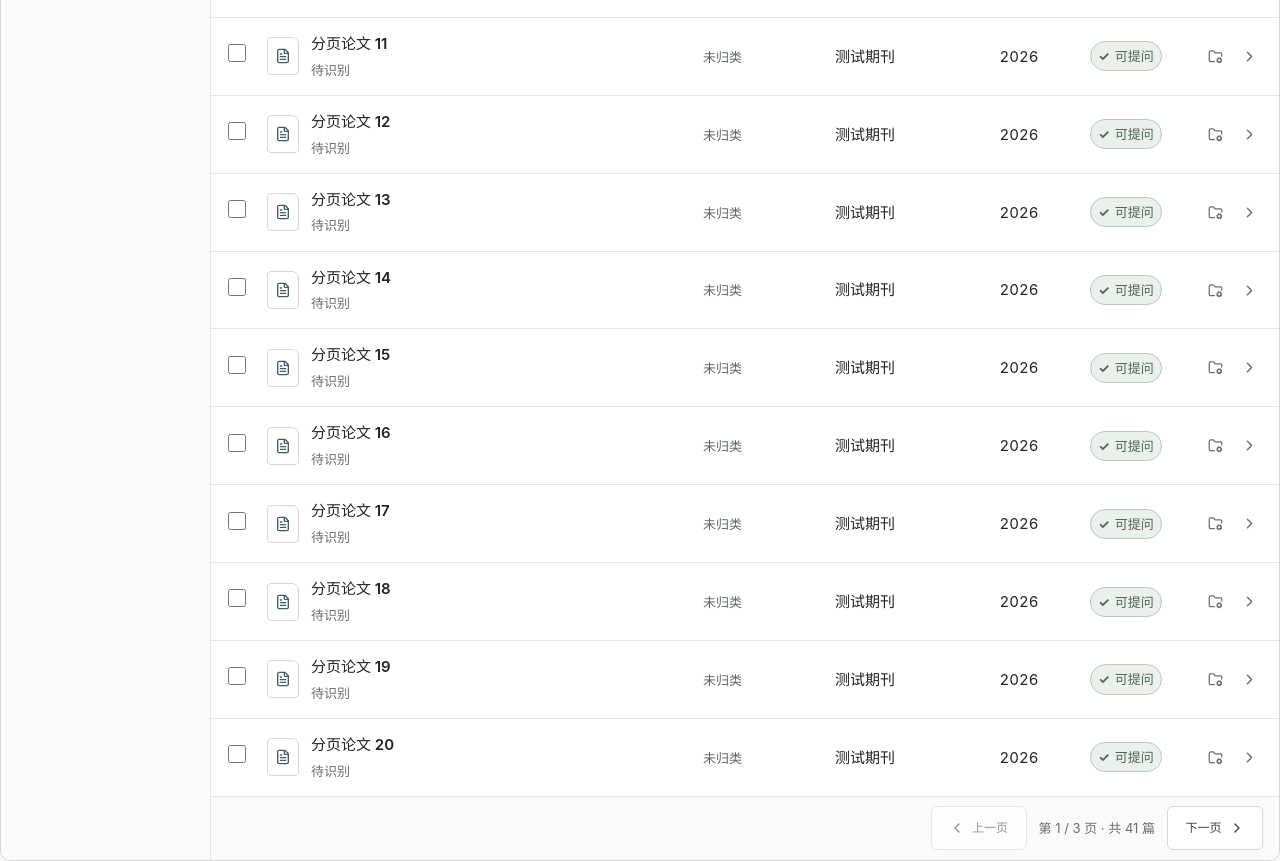
Test: LibraryTable 文献分页 › 每页展示 20 篇，并在筛选后回到第一页
(page scrolled)
Expected: the text "第 1 / 3 页 · 共 41 篇" is shown, x1=1038 y1=819 x2=1155 y2=838
Click the button "下一页" at (1215, 828), box x1=1167 y1=806 x2=1263 y2=850
(page scrolled)
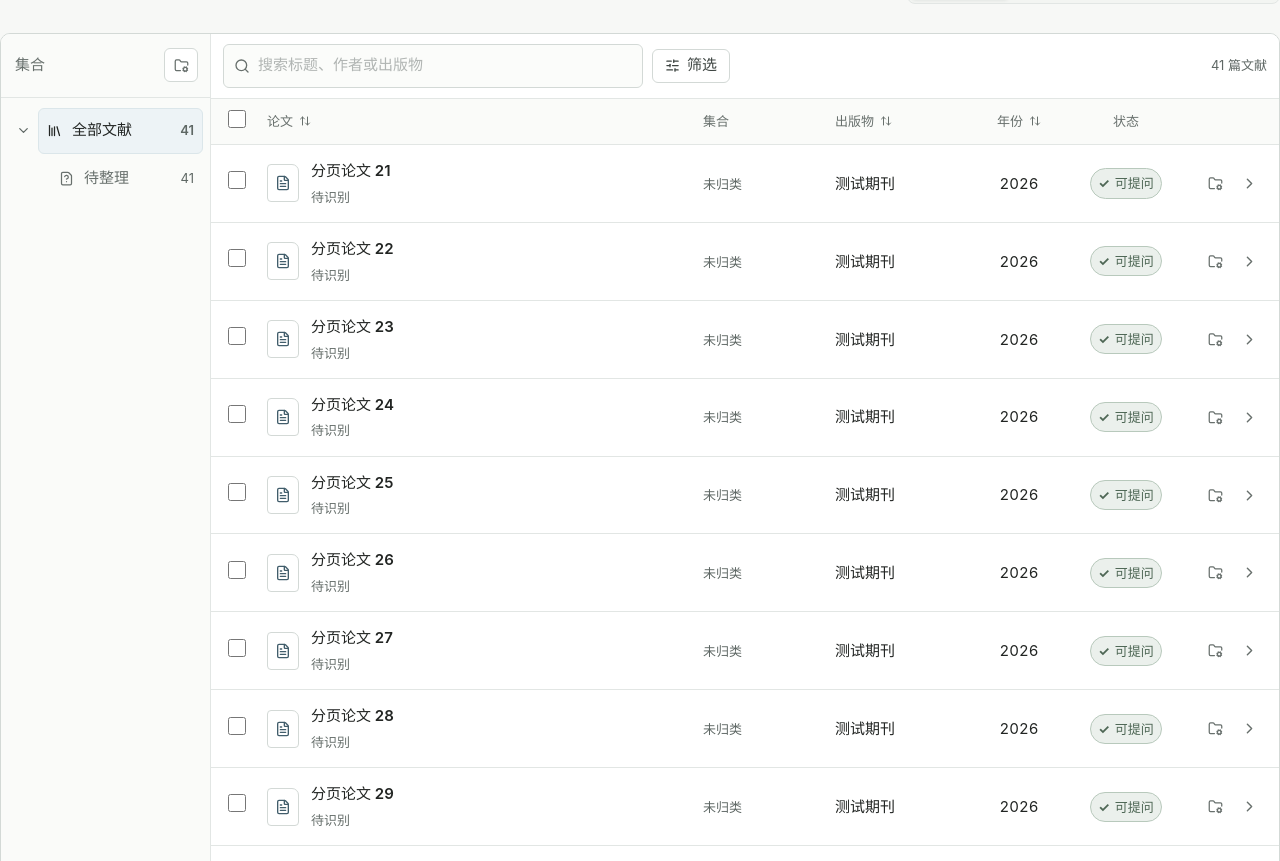
Now the text "分页论文 21" is shown, box x1=311 y1=161 x2=390 y2=180
Type "分页论文 03" into the field with placeholder "搜索标题、作者或出版物" at (445, 66), box x1=258 y1=54 x2=632 y2=77
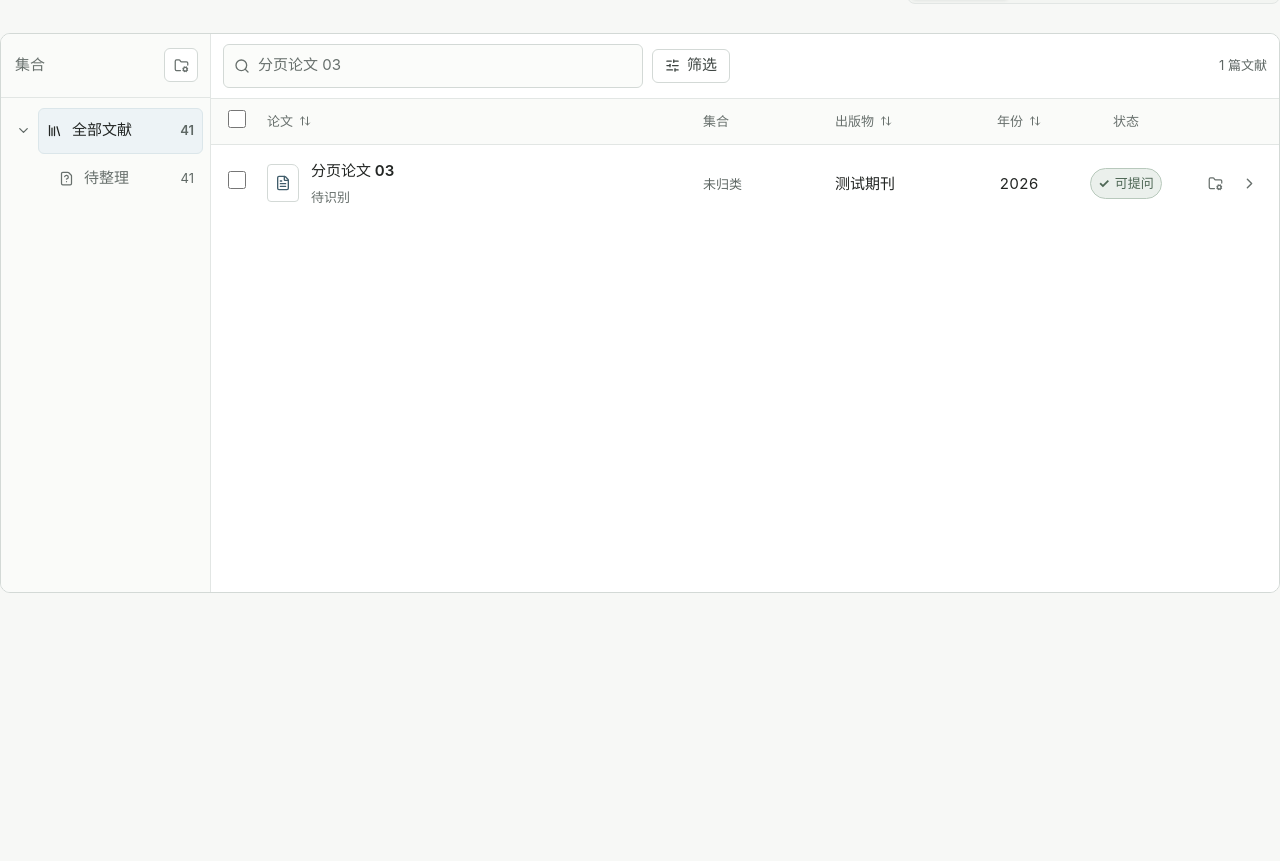
Now the text "分页论文 03" is shown, box x1=311 y1=161 x2=394 y2=180
